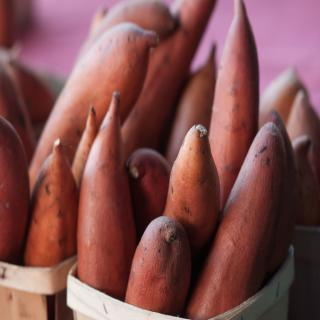Potato: (122, 194, 195, 305)
